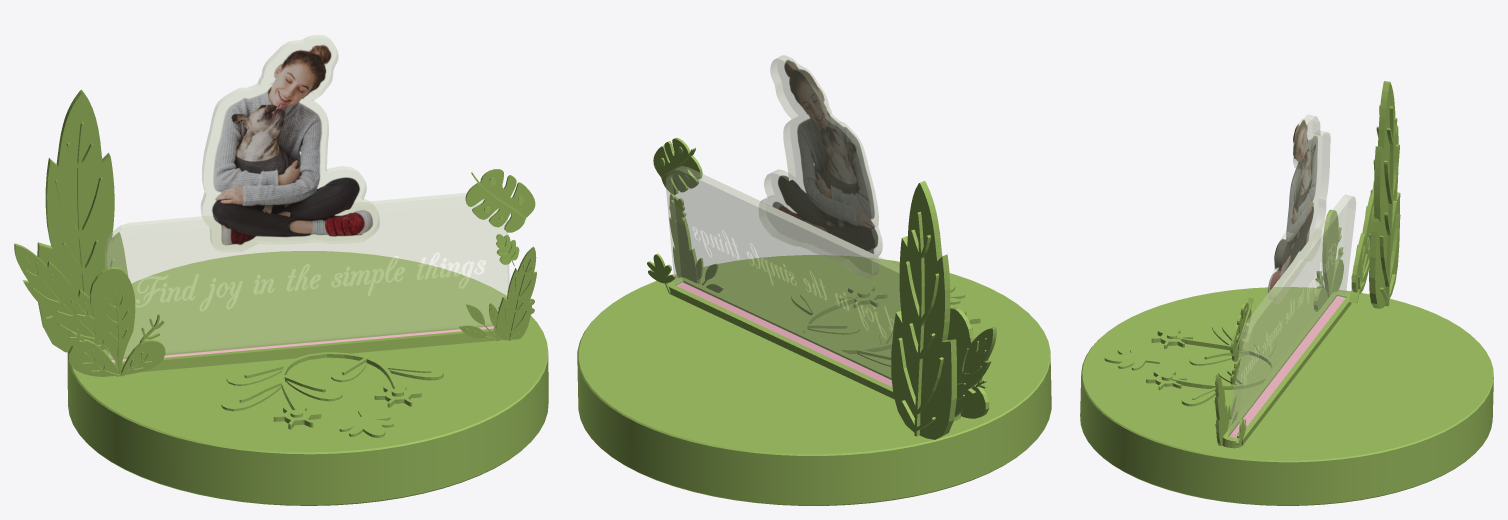
The model's file is glass_lamp.glb.
3 views of the same model, side by side, from view 1: azimuth 30°, elevation 25°; view 2: azimuth 150°, elevation 25°; view 3: azimuth 270°, elevation 25° (orthographic). The views are drawn at different scales.
Visible parts, largest first — view 1: frame2_stand, frame2_glass, frame2_img, frame2_emissive; view 2: frame2_stand, frame2_glass, frame2_img, frame2_emissive; view 3: frame2_stand, frame2_glass, frame2_img, frame2_emissive.
Part boxes in pixels (x1,y1,x2,y2): frame2_stand: [14, 89, 548, 505]; frame2_glass: [105, 35, 509, 361]; frame2_img: [212, 44, 373, 245]; frame2_emissive: [111, 326, 494, 362]; frame2_stand: [577, 137, 1051, 505]; frame2_glass: [666, 55, 900, 386]; frame2_img: [772, 59, 878, 253]; frame2_emissive: [677, 282, 892, 386]; frame2_stand: [1080, 81, 1493, 505]; frame2_glass: [1229, 114, 1355, 437]; frame2_img: [1267, 120, 1317, 292]; frame2_emissive: [1229, 296, 1345, 438].
Bounding box in the file's own units: 3.77 × 3.02 × 3.52.
4 materials, 1 textured.
